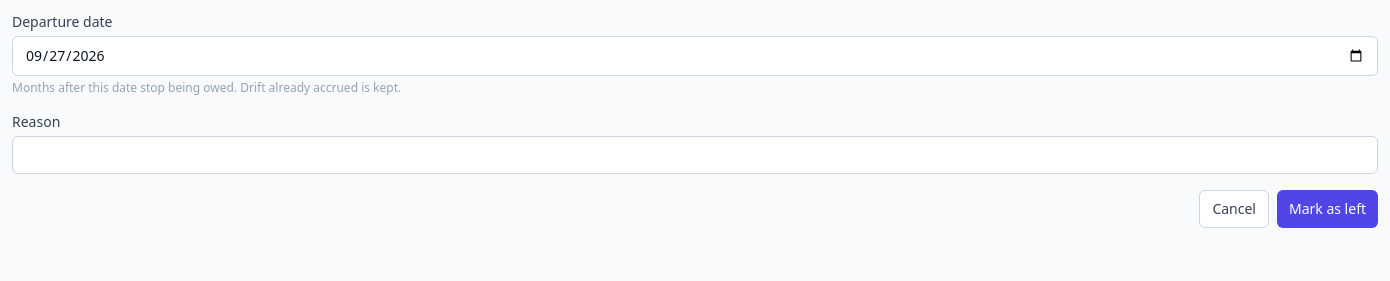
it: AttendanceForm — leaving › surfaces a refusal from the server
Click the button "Mark as left" at x=1328, y=209, box [1277,190,1378,228]
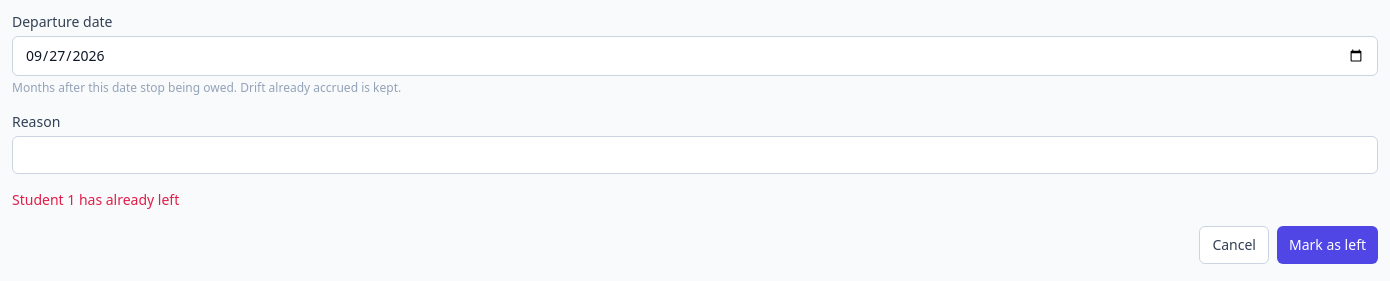
Expected: the text "Student 1 has already left" is shown, [12,190,179,209]
